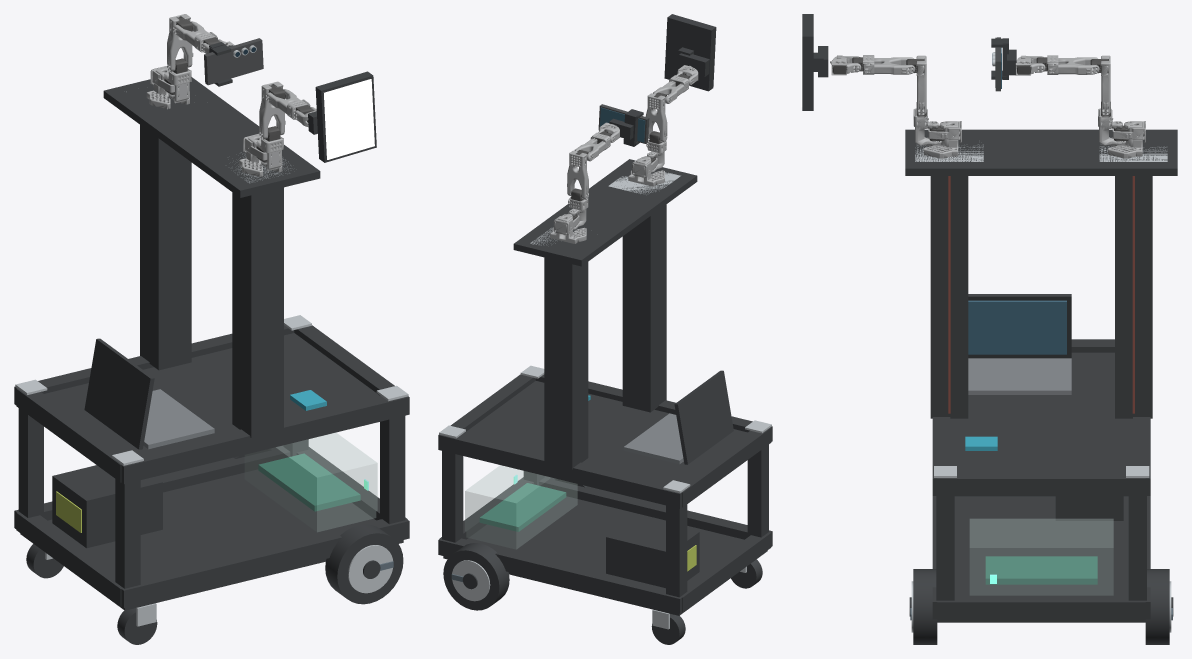
The model's file is take-one-panel.glb.
The picture shows the model from 3 angles, left to right: view 1: azimuth 30°, elevation 25°; view 2: azimuth 150°, elevation 25°; view 3: azimuth 270°, elevation 25°; orthographic projection. The views are drawn at different scales.
Visible parts, largest first — view 1: cart_box, upright_rear, upright_front, cart_work_deck, cart_deck, electronics_box, frame_side_0.25_0.49, frame_side_0.25_0.15, battery, laptop_lid, light_emitter, frame_end_-0.39_0.15 (+21 smaller); view 2: upright_front, cart_work_deck, upright_rear, cart_box, cart_deck, electronics_box, frame_side_-0.25_0.49, frame_side_-0.25_0.15, battery, laptop_lid, frame_side_0.25_0.15, light_payload (+20 smaller); view 3: cart_work_deck, cart_box, electronics_box, cart_deck, upright_rear, upright_front, laptop_screen, frame_end_0.39_0.49, frame_end_0.39_0.15, laptop_keyboard, electronics_board, corner_leg_-0.24_0.38 (+20 smaller).
Boxes of the visible parts, box(x1,y1,x2,y2) form: cart_box: box(20, 469, 403, 610); upright_rear: box(232, 187, 283, 437); upright_front: box(140, 125, 191, 370); cart_work_deck: box(44, 333, 379, 454); cart_deck: box(103, 77, 320, 197); electronics_box: box(245, 433, 377, 531); frame_side_0.25_0.49: box(121, 395, 409, 483); frame_side_0.25_0.15: box(115, 518, 409, 607); battery: box(52, 465, 162, 548); laptop_lid: box(84, 338, 154, 449); light_emitter: box(324, 79, 374, 159); frame_end_-0.39_0.15: box(16, 512, 121, 606); upright_front: box(544, 257, 588, 469); cart_work_deck: box(463, 381, 747, 483); upright_rear: box(622, 204, 666, 412); cart_box: box(443, 496, 767, 615); cart_deck: box(513, 159, 697, 266); electronics_box: box(465, 465, 577, 549); frame_side_-0.25_0.49: box(438, 434, 681, 508); frame_side_-0.25_0.15: box(438, 537, 687, 613); battery: box(606, 516, 699, 588); laptop_lid: box(674, 370, 733, 464); frame_side_0.25_0.15: box(539, 476, 772, 546); light_payload: box(664, 14, 716, 91); cart_work_deck: box(950, 352, 1132, 471); cart_box: box(937, 496, 1145, 622); electronics_box: box(970, 519, 1113, 595); cart_deck: box(905, 129, 1177, 175); upright_rear: box(930, 176, 968, 418); upright_front: box(1115, 176, 1152, 418); laptop_screen: box(968, 300, 1066, 354); frame_end_0.39_0.49: box(937, 471, 1145, 496); frame_end_0.39_0.15: box(937, 595, 1145, 619); laptop_keyboard: box(968, 358, 1071, 394); electronics_board: box(985, 556, 1097, 584); corner_leg_-0.24_0.38: box(1128, 496, 1146, 600).
Bounding box in the file's own units: 0.824 × 1.6 × 0.9402.
